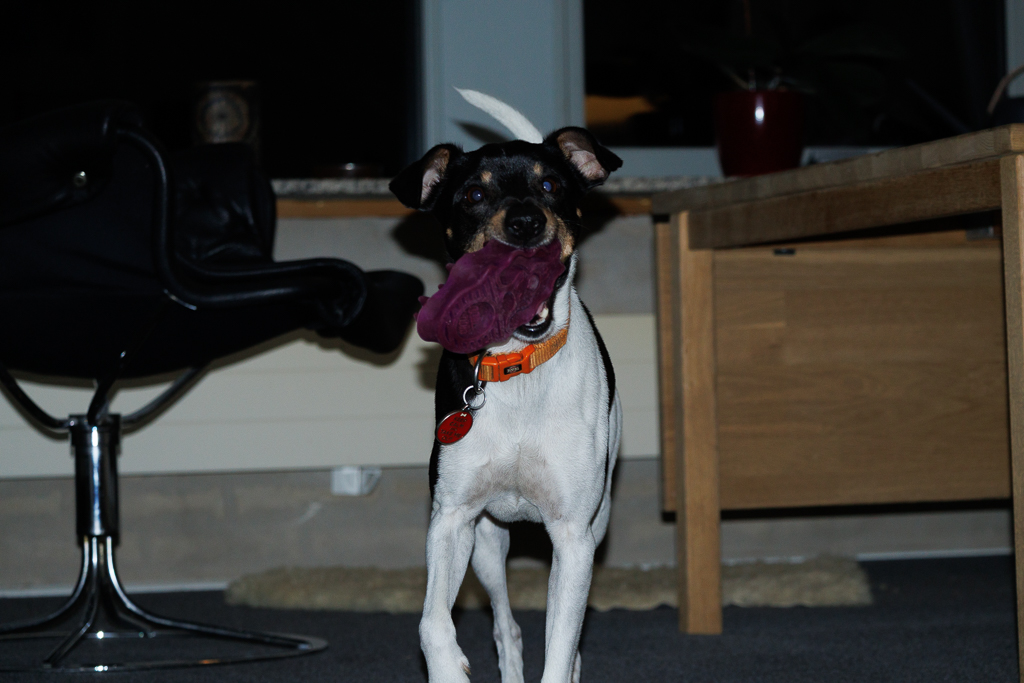Dog: (357, 77, 653, 683)
